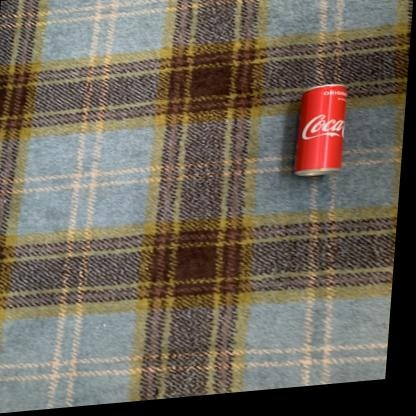trash: (295, 84, 347, 175)
